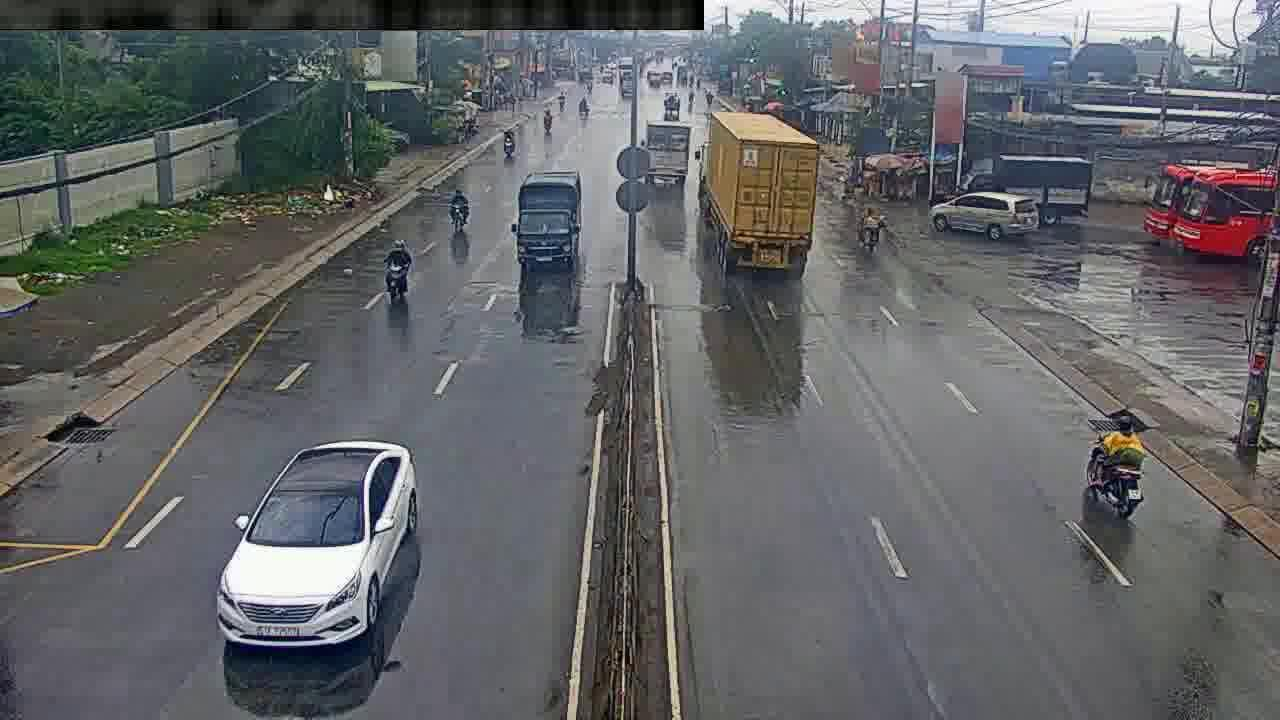8: (705, 118, 822, 267), (521, 178, 584, 266), (650, 122, 694, 183)
container: (228, 437, 416, 667)
motorbike: (1089, 413, 1142, 530), (382, 236, 413, 309), (447, 183, 471, 244), (863, 198, 885, 252), (500, 123, 516, 161), (540, 103, 553, 133)
